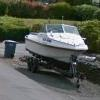Boat: (18, 21, 87, 78)
